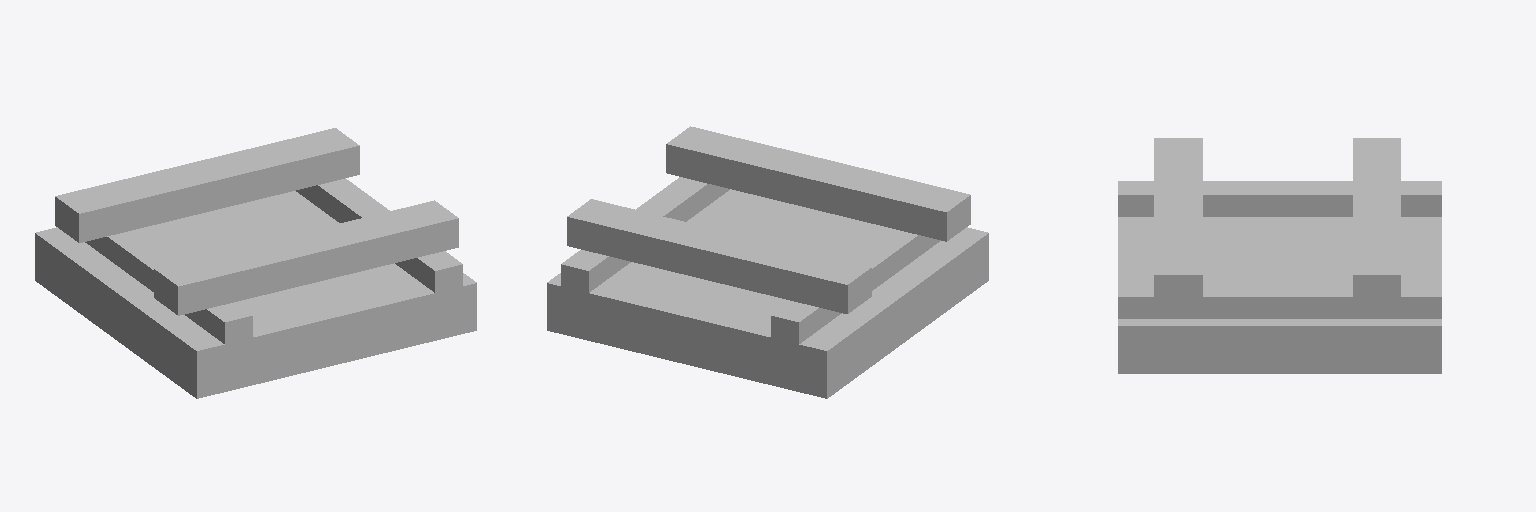
Rendered from Railroad Track.obj.
3 views of the same model, side by side, from view 1: azimuth 30°, elevation 25°; view 2: azimuth 150°, elevation 25°; view 3: azimuth 270°, elevation 25° (orthographic).
Visible parts, largest first — view 1: Railroad Track; view 2: Railroad Track; view 3: Railroad Track.
Boxes of the visible parts, x1=… form: Railroad Track: x1=35, y1=128, x2=476, y2=398; Railroad Track: x1=547, y1=126, x2=988, y2=398; Railroad Track: x1=1118, y1=138, x2=1441, y2=373.
Bounding box in the file's own units: 80 × 27 × 80.